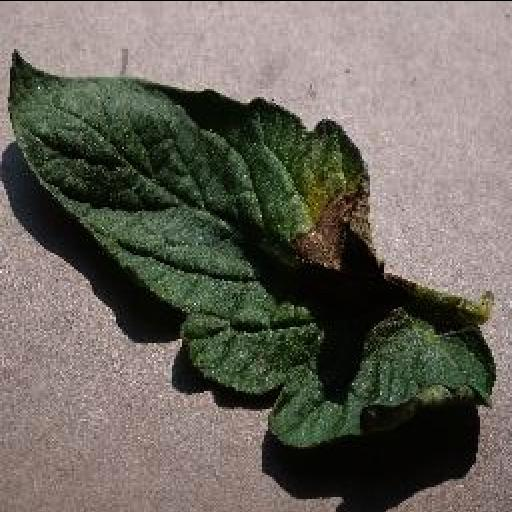disease_tomato: (6, 46, 502, 448)
